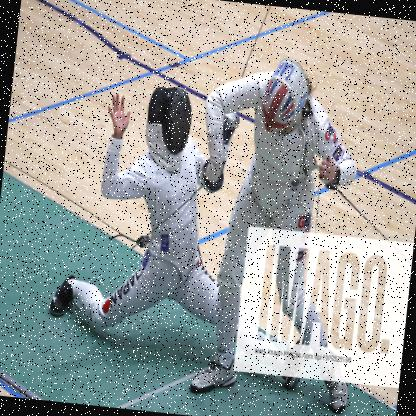fencer: (35, 72, 340, 397), (174, 49, 400, 415)
